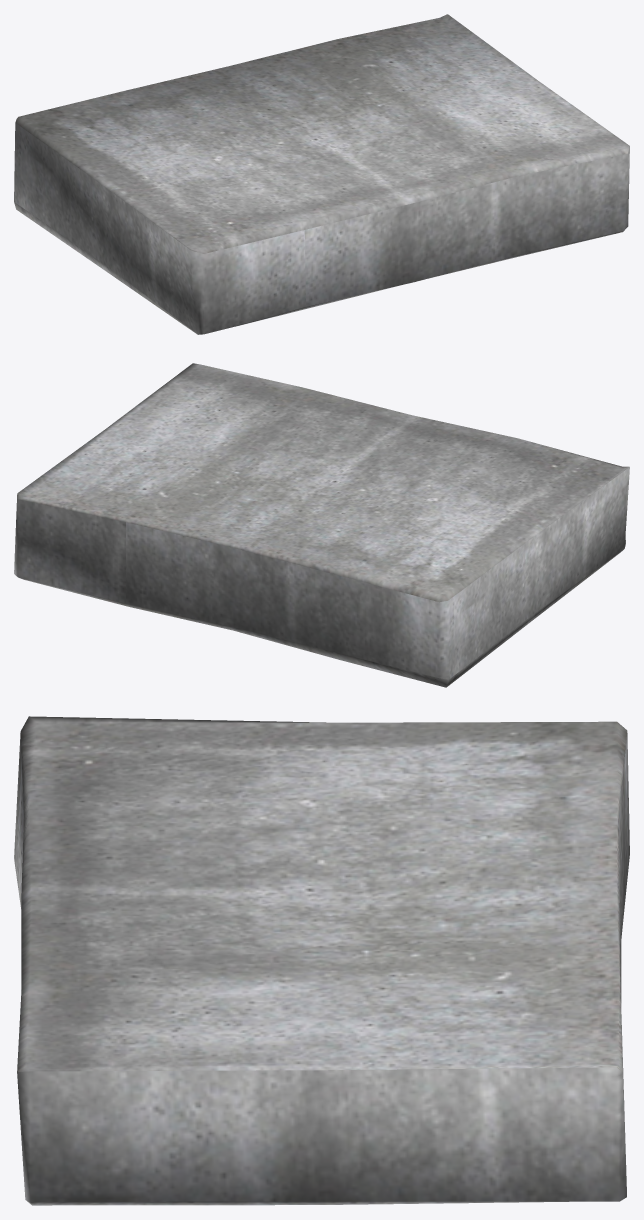
Rendered from prop_debris_small_laje.glb.
3 views of the same model, one above another, from view 1: azimuth 30°, elevation 25°; view 2: azimuth 150°, elevation 25°; view 3: azimuth 270°, elevation 25° (orthographic). The views are drawn at different scales.
Visible parts, largest first — view 1: prop_debris_small_laje_mesh; view 2: prop_debris_small_laje_mesh; view 3: prop_debris_small_laje_mesh.
Boxes of the visible parts, x1,y1,x2,y2 form: prop_debris_small_laje_mesh: (14,14,629,334); prop_debris_small_laje_mesh: (14,363,629,687); prop_debris_small_laje_mesh: (14,716,629,1205).
Bounding box in the file's own units: 1.23 × 0.25 × 0.9099.
1 material, 1 textured.
